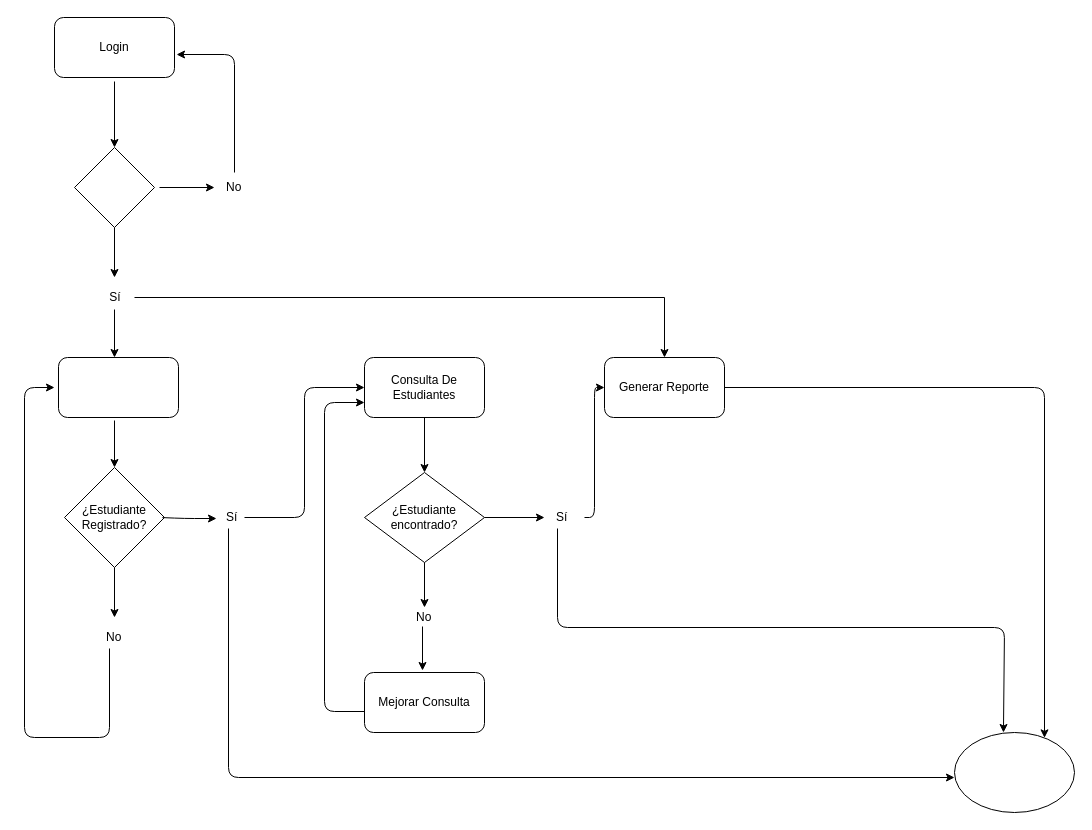
The diagram is 1092 pixels wide and 830 high, and some of its shapes have lost their labels. Each missing label, with the box of its shape:
F I N: (954, 732, 1074, 812)
Registro De Estudiantes: (58, 356, 178, 418)
¿Login Exitoso?: (74, 146, 154, 228)
